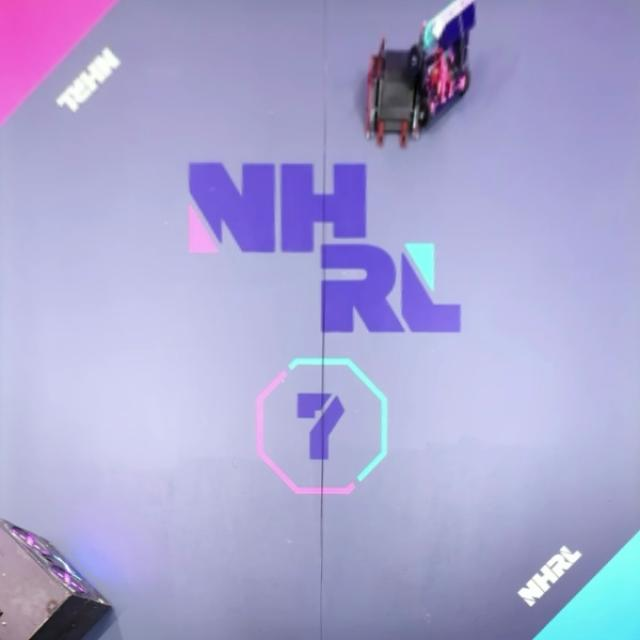housebot: (0, 517, 116, 639)
robot: (366, 18, 430, 146), (417, 0, 478, 121)
